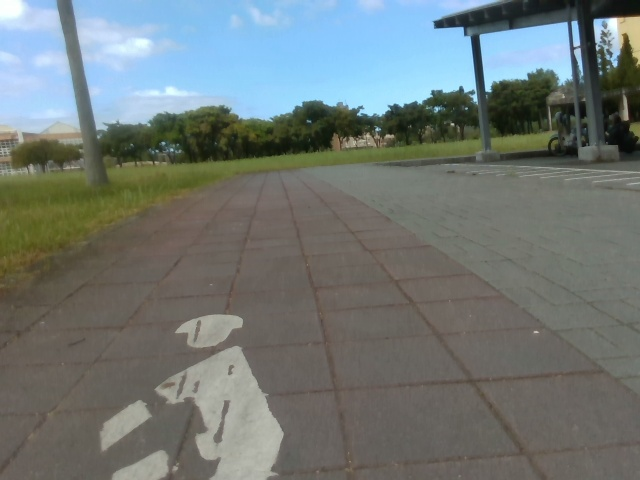grass: (0, 127, 558, 294), (98, 69, 570, 165), (596, 27, 639, 121), (12, 141, 82, 169)
road: (0, 157, 639, 479)
sidewalk: (575, 327, 639, 389)
